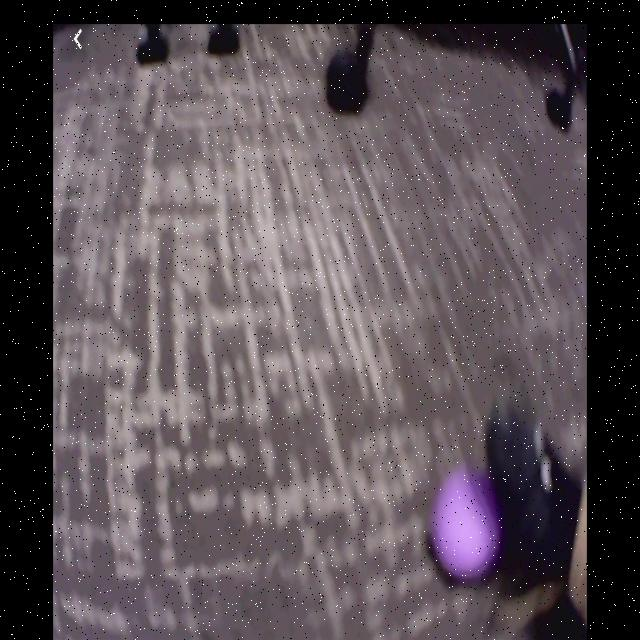ball: (434, 471, 497, 579)
